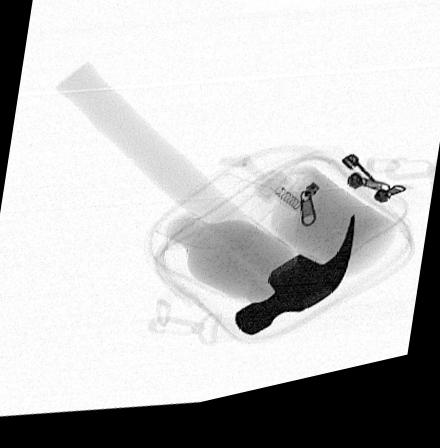Hammer: (49, 63, 357, 348)
